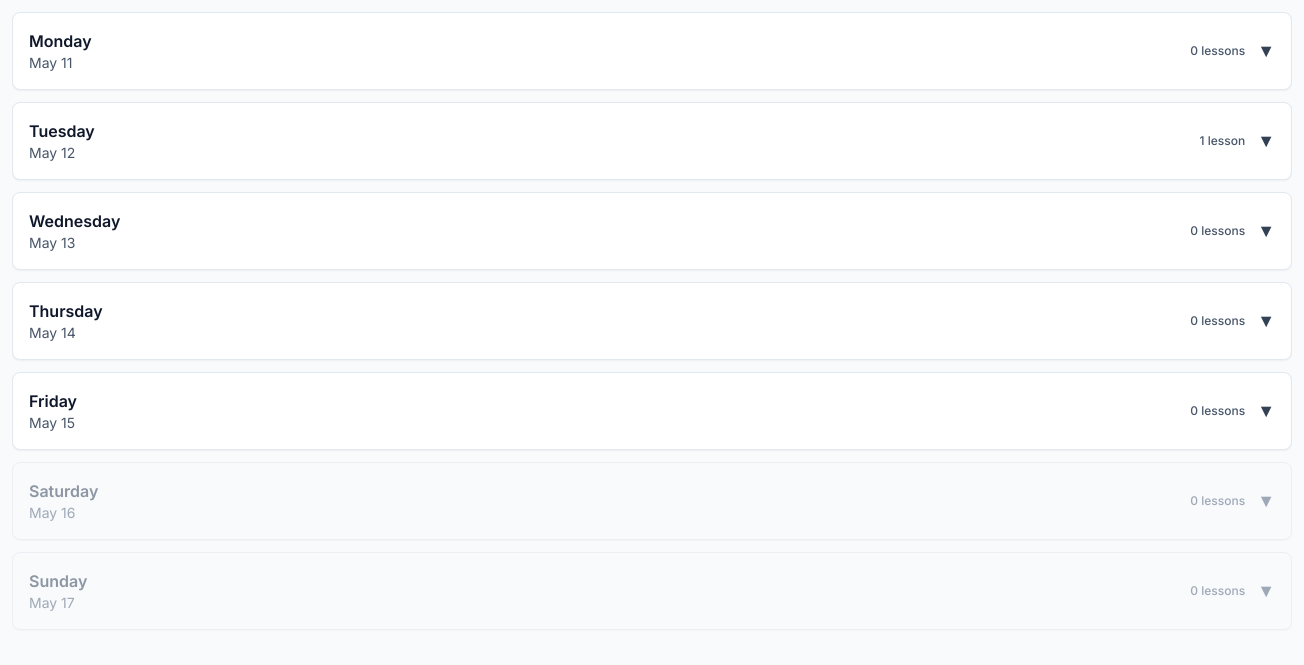
Test: WeeklyList (mobile) › expanding a day section shows all lessons for that day
This screenshot has width=1304, height=665.
Click the button "Tuesday May 12 1 lesson ▼".
click(62, 131)  # box left=13, top=103, right=1291, bottom=179
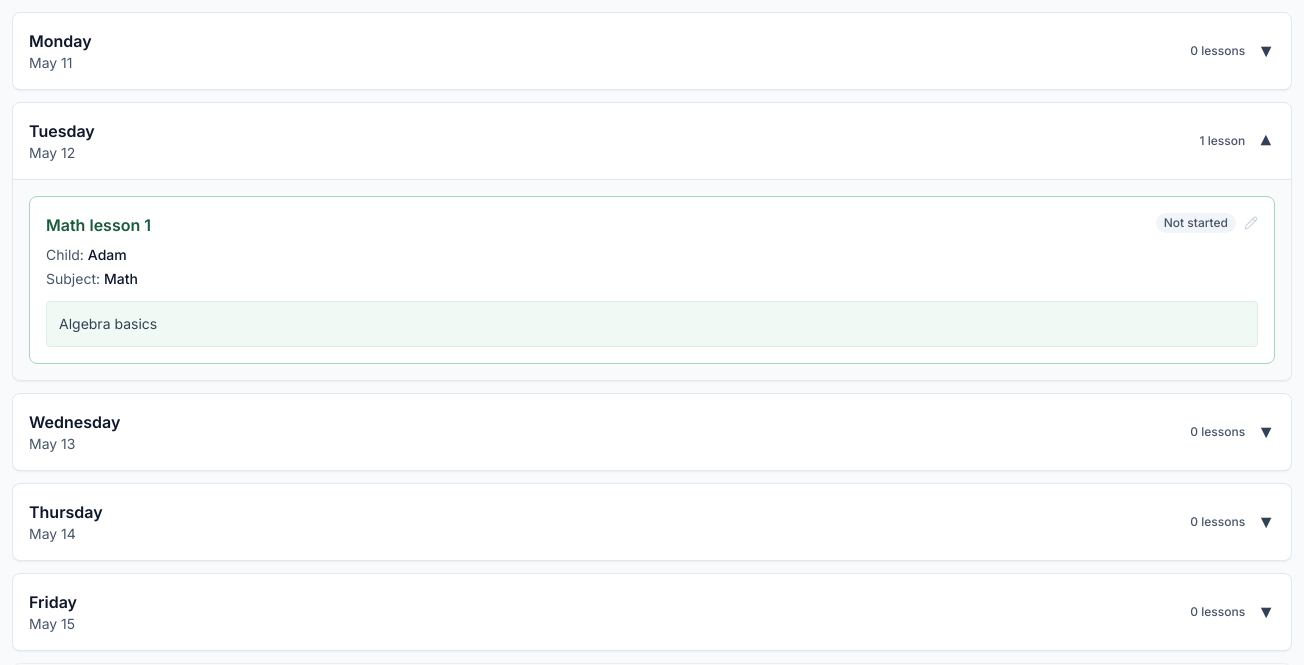
Now the text "Math lesson 1" is shown, box left=46, top=213, right=151, bottom=237
